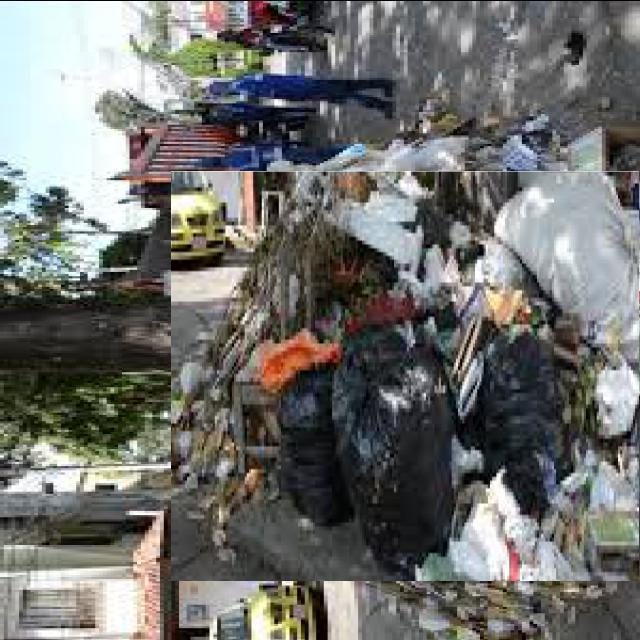Trashbag: (332, 320, 462, 568), (478, 317, 580, 517), (274, 354, 352, 529)
